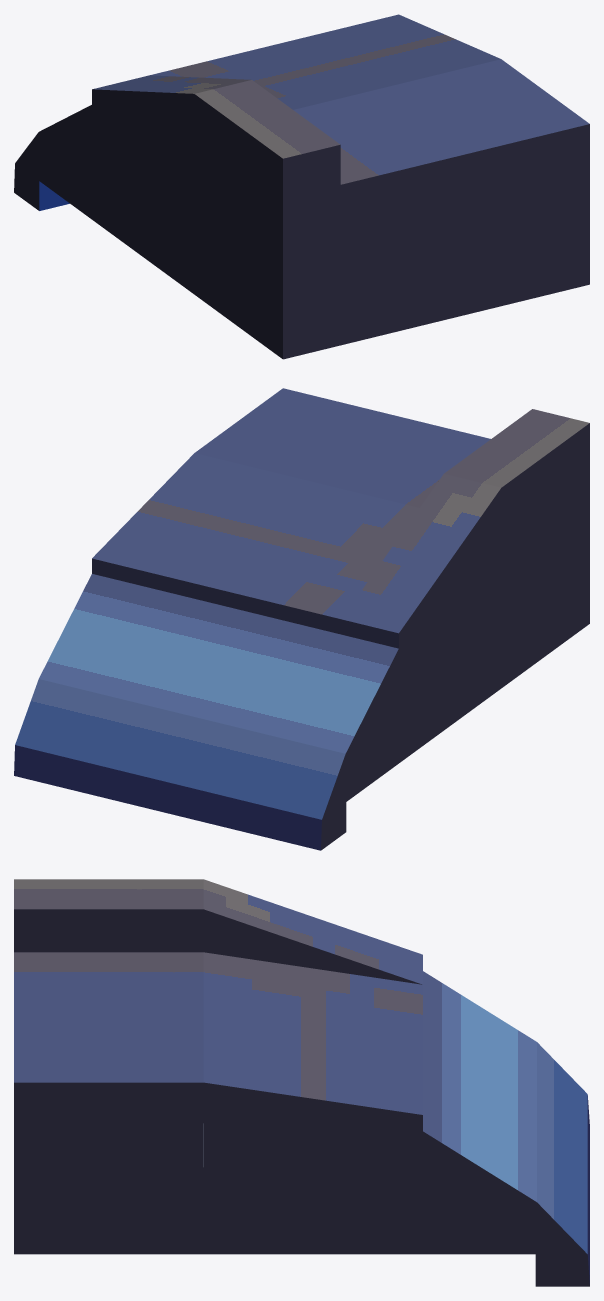
The model's file is df21_dynamic_transition_carport.obj.
3 renders of one model, top to bottom at view 1: azimuth 30°, elevation 25°; view 2: azimuth 150°, elevation 25°; view 3: azimuth 270°, elevation 25°, orthographic. The views are drawn at different scales.
Parts seen in each view (by area): view 1: cuboid_selection_selection_selection_selection_selection_selecti; view 2: cuboid_selection_selection_selection_selection_selection_selecti; view 3: cuboid_selection_selection_selection_selection_selection_selecti.
Boxes of the visible parts, box(x1,y1,x2,y2) form: cuboid_selection_selection_selection_selection_selection_selecti: box(14, 14, 589, 359); cuboid_selection_selection_selection_selection_selection_selecti: box(14, 388, 589, 850); cuboid_selection_selection_selection_selection_selection_selecti: box(14, 879, 589, 1286).
Bounding box in the file's own units: 1 × 0.7188 × 1.52.
